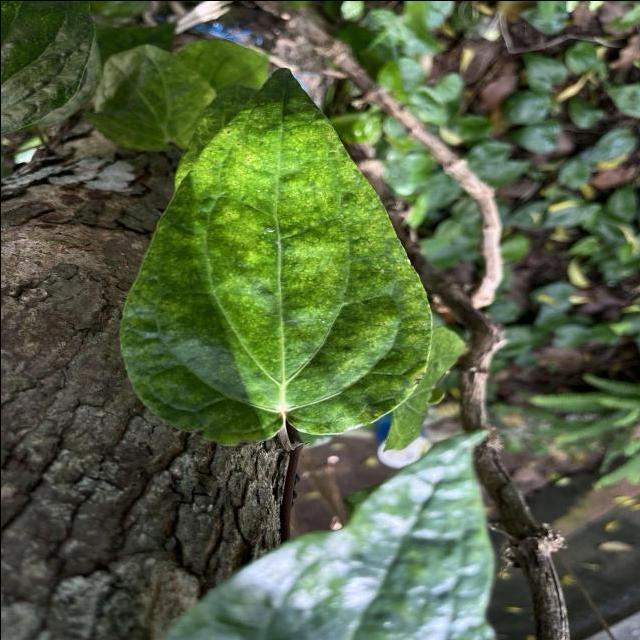Piper betle: (113, 62, 434, 448)
